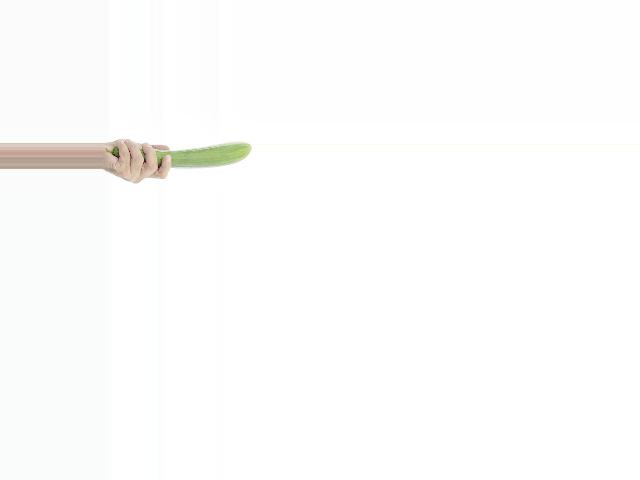cucumber: (106, 141, 252, 168)
